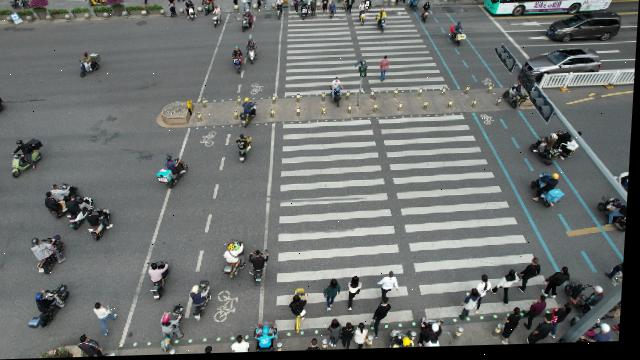non-motor-vehicle: (32, 282, 81, 333), (8, 137, 47, 180), (34, 234, 72, 275), (163, 307, 191, 354), (532, 175, 569, 209), (45, 182, 82, 215), (567, 283, 610, 311), (157, 157, 192, 191), (226, 238, 252, 282), (601, 198, 630, 237), (292, 289, 313, 336), (150, 260, 174, 300), (195, 281, 217, 323), (529, 139, 562, 167), (72, 193, 96, 231), (249, 251, 273, 288), (93, 209, 116, 242), (258, 322, 282, 353), (424, 319, 446, 350), (78, 51, 102, 79), (505, 85, 528, 113), (238, 133, 256, 165), (392, 332, 418, 350), (450, 23, 468, 48), (243, 99, 258, 129), (330, 79, 344, 111), (559, 142, 579, 163), (231, 48, 245, 75), (374, 11, 389, 35), (246, 38, 258, 66), (242, 11, 254, 34), (184, 0, 196, 22), (421, 5, 432, 27), (213, 6, 223, 30), (203, 0, 214, 17), (300, 1, 308, 23), (358, 3, 365, 26), (277, 0, 284, 23), (409, 0, 419, 14), (364, 0, 372, 14), (338, 0, 345, 6), (308, 0, 313, 8)
person: (96, 300, 122, 338), (496, 272, 520, 310), (546, 269, 576, 298), (525, 299, 552, 331), (379, 272, 405, 303), (83, 333, 116, 357), (555, 305, 578, 338), (377, 298, 394, 339), (509, 310, 527, 347), (525, 264, 544, 297), (327, 280, 345, 312), (330, 320, 348, 350), (466, 291, 482, 324), (480, 278, 498, 307), (351, 277, 365, 313), (347, 323, 361, 352), (359, 323, 373, 351), (234, 338, 257, 354), (380, 57, 391, 85), (168, 0, 177, 18), (346, 0, 356, 16), (322, 0, 330, 18), (311, 0, 318, 20), (331, 4, 337, 22), (255, 0, 262, 12), (241, 0, 248, 10), (293, 0, 298, 14), (232, 0, 242, 7), (262, 0, 269, 9), (249, 0, 254, 10), (402, 0, 409, 7), (396, 0, 402, 7)
